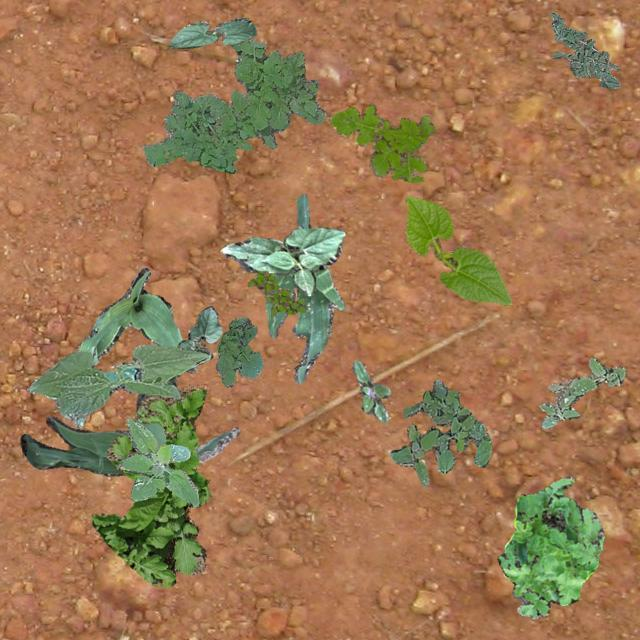crop: (72, 268, 195, 427), (20, 392, 238, 474), (264, 194, 344, 382), (25, 344, 208, 419), (404, 194, 510, 304), (220, 226, 344, 294), (168, 16, 255, 48), (177, 304, 220, 366)
weed: (142, 38, 324, 172), (90, 386, 210, 586), (496, 476, 604, 618), (388, 378, 491, 486), (328, 104, 434, 182), (118, 418, 198, 507), (538, 357, 624, 428), (550, 12, 620, 88), (214, 316, 262, 386), (247, 268, 306, 316), (350, 358, 390, 422)
